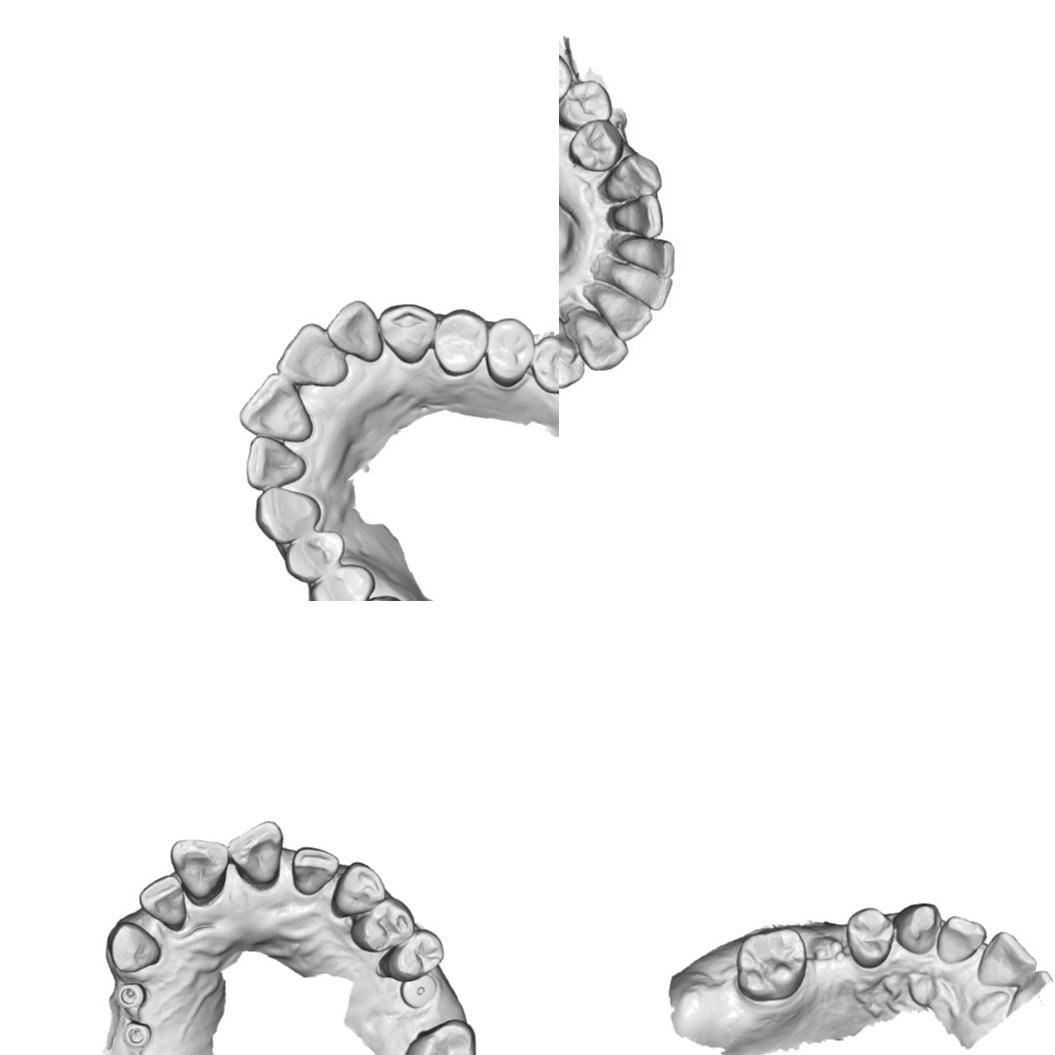canine: (254, 485, 320, 546), (378, 300, 438, 366), (569, 301, 626, 370), (330, 860, 386, 918), (602, 152, 662, 202), (107, 920, 162, 974), (894, 899, 944, 956)
implant: (399, 972, 438, 1008), (114, 981, 150, 1011), (120, 1020, 152, 1048)
incisor: (236, 372, 312, 442), (272, 321, 349, 384), (240, 434, 311, 492), (169, 838, 229, 905), (228, 820, 285, 890), (325, 298, 385, 364), (974, 929, 1038, 989), (593, 279, 651, 343), (606, 264, 670, 312), (934, 914, 988, 967), (138, 874, 187, 931), (608, 192, 664, 239), (290, 846, 340, 897), (612, 232, 672, 273)
molar: (734, 926, 808, 1002), (403, 1017, 477, 1055), (528, 333, 559, 398)
premolar: (432, 306, 490, 377), (482, 313, 534, 389), (350, 896, 416, 954), (843, 904, 896, 971), (281, 530, 346, 584), (380, 928, 444, 982), (567, 118, 619, 175), (559, 77, 610, 131), (309, 561, 377, 601), (559, 332, 583, 389)
